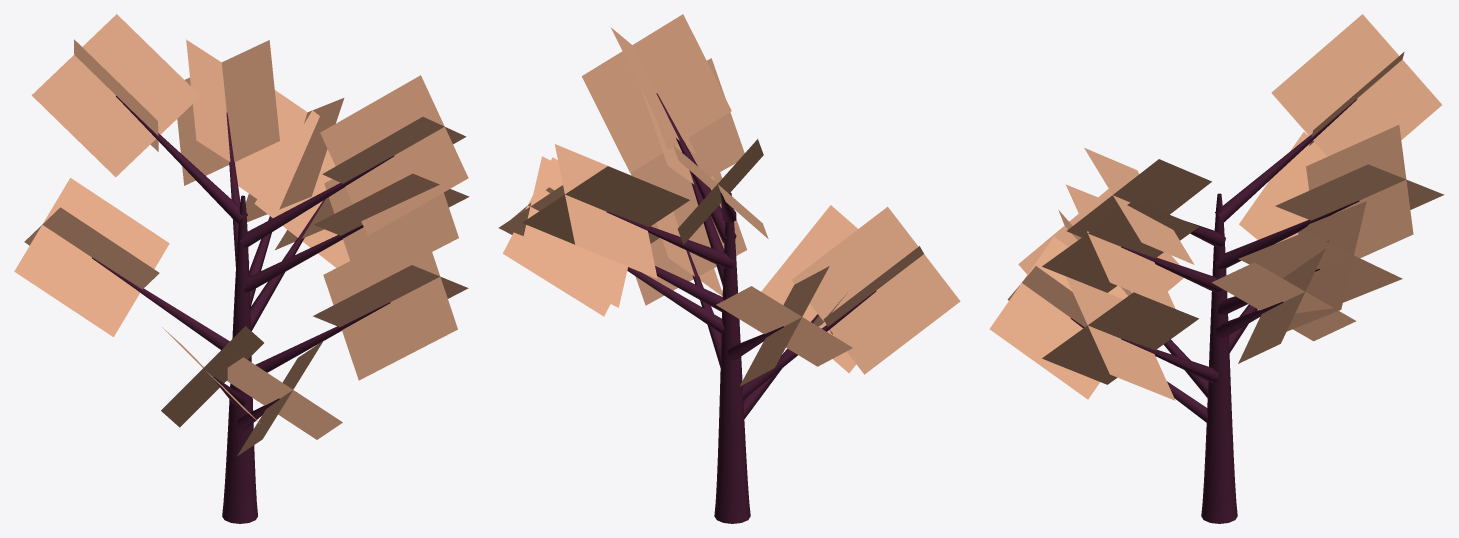
File: PictureTree.fbx
3 renders of one model, left to right at view 1: azimuth 30°, elevation 25°; view 2: azimuth 150°, elevation 25°; view 3: azimuth 270°, elevation 25°, orthographic.
Visible parts, largest first — view 1: Leaf.012; view 2: Leaf.012; view 3: Leaf.012.
Part boxes in pixels (<box>): Leaf.012: <box>14,14,469,523</box>; Leaf.012: <box>499,14,960,523</box>; Leaf.012: <box>989,14,1444,523</box>.
Bounding box in the file's own units: 2819 × 3299 × 2992.
